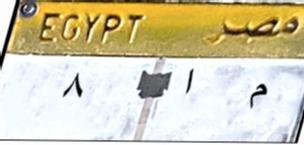8: (59, 69, 87, 109)
alif: (180, 64, 200, 106)
meem: (246, 78, 270, 120)
